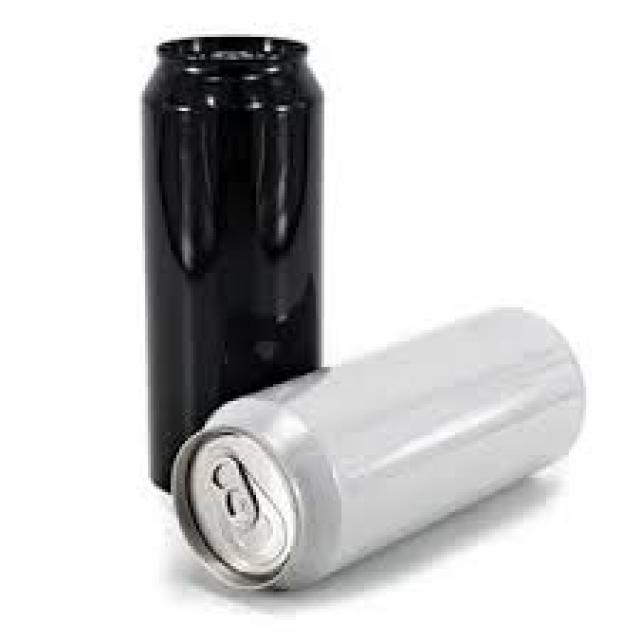Cans: (165, 287, 592, 600), (125, 17, 324, 498)
